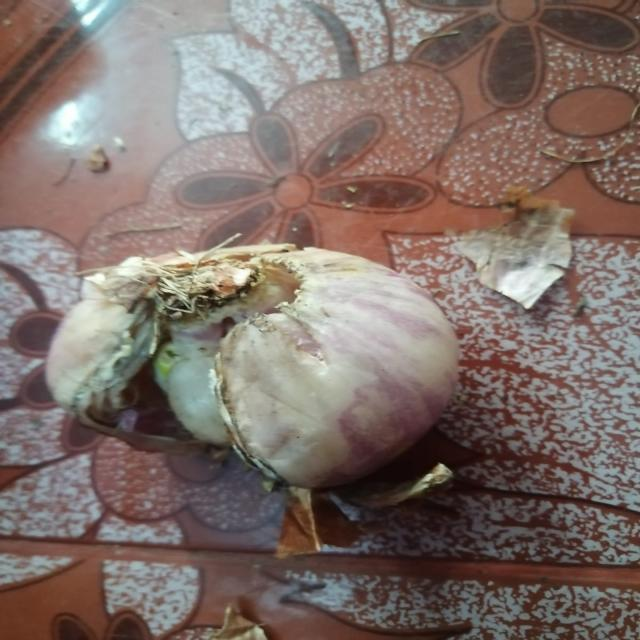rotten: (128, 318, 248, 470)
